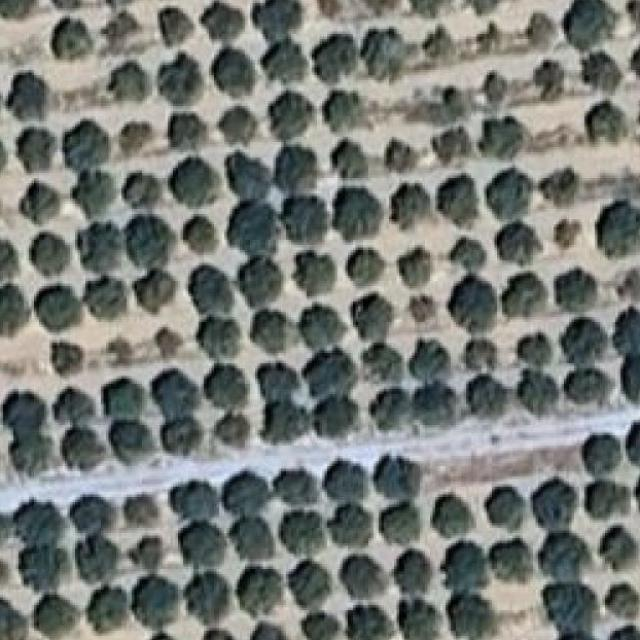Tree: (356, 24, 417, 76), (541, 584, 596, 640), (302, 346, 360, 399), (487, 541, 547, 591), (597, 196, 640, 264), (579, 428, 633, 482), (49, 18, 103, 69), (229, 197, 283, 248), (127, 209, 178, 262), (406, 336, 454, 392), (80, 217, 127, 274), (127, 579, 180, 629), (64, 119, 113, 173), (193, 260, 244, 311), (307, 394, 360, 443), (566, 0, 620, 48), (173, 150, 219, 206), (273, 140, 319, 196), (337, 551, 388, 601), (16, 543, 65, 595), (540, 166, 589, 217), (240, 253, 288, 305), (187, 566, 230, 624), (271, 88, 318, 141), (329, 505, 378, 555), (487, 168, 538, 216), (540, 528, 588, 579), (163, 472, 218, 516), (15, 178, 63, 228), (258, 34, 307, 82), (265, 396, 314, 444), (553, 260, 601, 309), (13, 127, 58, 179), (48, 337, 92, 390), (332, 181, 374, 236), (531, 482, 573, 537), (337, 245, 385, 293), (509, 363, 556, 412), (289, 561, 339, 607), (232, 569, 283, 614), (11, 506, 63, 550), (328, 142, 372, 194), (86, 584, 128, 638), (73, 535, 121, 582), (377, 453, 425, 500), (274, 504, 322, 551), (502, 274, 552, 319), (399, 240, 450, 284), (445, 589, 489, 640), (177, 523, 233, 563), (39, 281, 82, 333), (309, 34, 356, 81), (6, 73, 52, 121), (33, 592, 79, 640), (484, 116, 532, 162), (104, 6, 149, 55), (450, 274, 490, 329), (24, 232, 73, 276), (230, 147, 274, 196), (224, 475, 273, 519), (284, 192, 333, 236), (250, 0, 305, 39), (157, 111, 209, 152), (497, 224, 545, 268), (440, 541, 482, 591), (0, 289, 36, 347), (8, 430, 54, 474), (579, 52, 625, 96), (584, 93, 628, 139), (123, 171, 170, 214), (209, 52, 259, 92), (603, 531, 638, 588), (152, 0, 194, 47), (250, 312, 300, 351), (256, 358, 300, 402), (367, 388, 411, 432), (111, 423, 157, 465), (446, 234, 488, 280), (60, 422, 101, 469), (438, 175, 479, 222), (137, 268, 185, 308), (364, 332, 406, 377), (271, 472, 322, 509), (219, 101, 265, 142), (196, 6, 243, 46), (156, 365, 194, 414), (122, 490, 164, 534), (351, 598, 395, 640), (75, 171, 116, 216), (160, 54, 200, 100), (296, 242, 336, 288), (101, 376, 144, 418), (531, 58, 573, 101), (194, 317, 240, 356), (321, 459, 367, 498), (86, 274, 128, 316), (302, 304, 342, 348), (408, 292, 452, 332), (0, 392, 46, 430), (564, 317, 605, 359), (68, 492, 109, 533), (394, 600, 436, 640), (327, 90, 365, 134), (0, 229, 30, 284), (434, 497, 474, 538), (162, 420, 205, 458), (546, 212, 584, 255), (207, 372, 251, 409), (232, 518, 272, 558), (384, 500, 424, 540), (512, 336, 559, 370), (389, 188, 427, 230), (588, 482, 630, 520), (466, 379, 502, 423), (109, 68, 151, 105), (423, 24, 458, 67), (608, 301, 640, 348), (181, 214, 220, 252), (214, 409, 252, 448), (59, 389, 102, 423), (394, 554, 437, 588), (125, 533, 162, 572), (116, 116, 152, 156), (434, 132, 476, 166), (523, 16, 562, 52), (459, 336, 497, 372), (409, 387, 448, 422), (476, 67, 514, 102), (353, 292, 386, 332), (145, 327, 182, 362), (487, 490, 516, 534), (571, 368, 606, 404), (474, 20, 508, 56), (407, 0, 461, 22), (622, 416, 640, 475), (0, 602, 27, 640), (615, 353, 640, 394), (387, 137, 418, 169), (607, 584, 640, 614), (353, 0, 401, 20), (464, 0, 513, 19), (302, 608, 331, 640), (1, 0, 42, 22), (248, 622, 289, 640), (315, 0, 345, 22), (630, 34, 640, 99), (46, 0, 105, 11), (198, 623, 236, 640), (620, 0, 640, 31), (613, 623, 640, 640), (149, 627, 183, 640), (564, 630, 598, 640)
